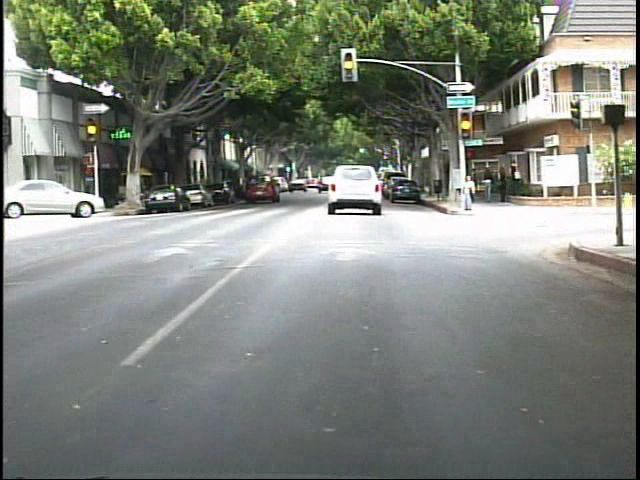person: (457, 171, 479, 213), (506, 158, 522, 195), (481, 167, 497, 202), (496, 166, 510, 206)
